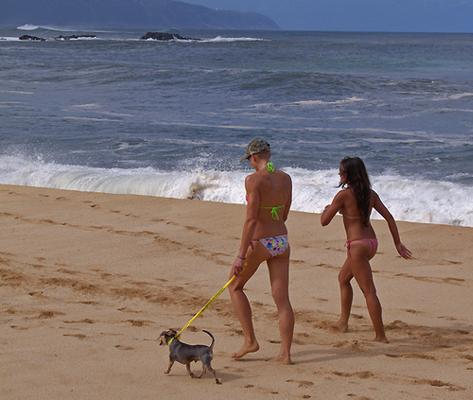person: (230, 137, 296, 367)
